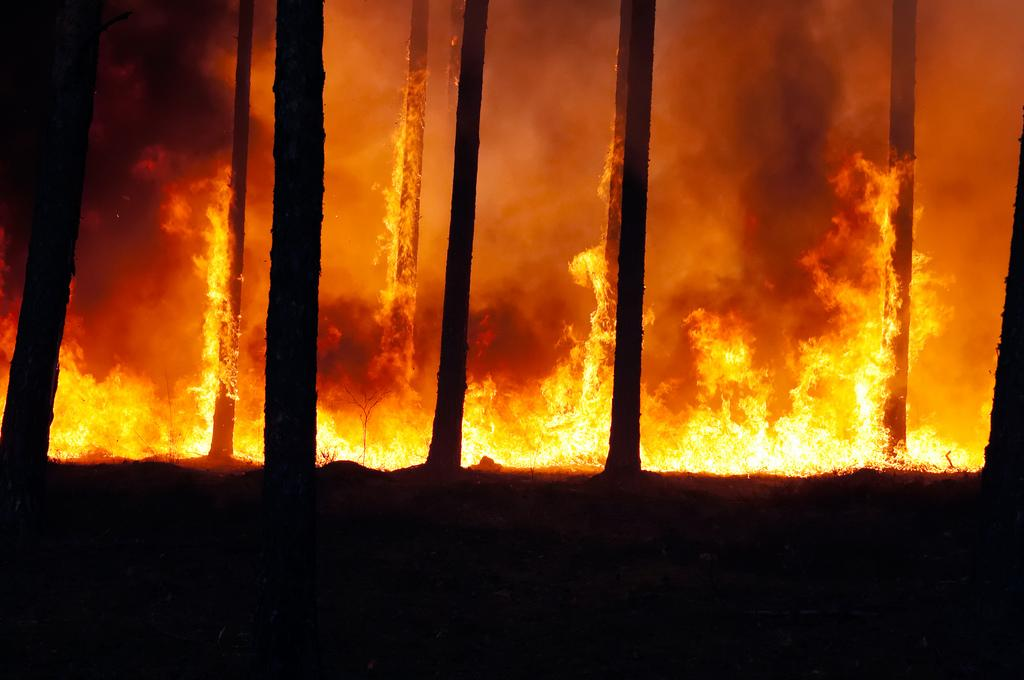fire: (78, 390, 897, 457), (807, 180, 885, 398), (375, 103, 428, 335), (188, 185, 235, 387), (685, 310, 757, 397), (563, 255, 607, 380)
